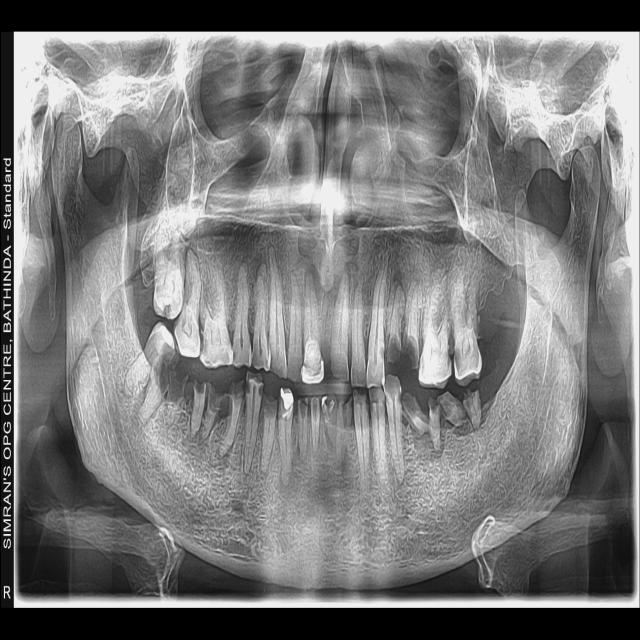Caries: (154, 343, 177, 393), (258, 385, 264, 397), (246, 381, 250, 394)
Filling: (302, 361, 324, 384), (280, 387, 294, 410)
Mandibular Canal: (89, 307, 250, 530), (395, 331, 571, 534)
Periapical lesion: (305, 264, 323, 301), (136, 394, 151, 429), (243, 444, 254, 476), (279, 466, 293, 489), (217, 443, 233, 461), (184, 246, 200, 264), (255, 262, 267, 282), (239, 257, 250, 278), (267, 246, 277, 269), (393, 276, 404, 290), (123, 380, 131, 399), (396, 475, 405, 487)
Root Piece: (219, 381, 244, 457), (158, 370, 188, 427), (405, 281, 422, 368), (386, 285, 405, 362), (261, 394, 278, 473), (401, 392, 429, 436), (336, 397, 353, 466), (202, 383, 222, 439), (438, 392, 466, 427), (191, 382, 206, 437), (462, 390, 481, 429), (428, 398, 441, 450), (298, 398, 309, 457), (310, 396, 320, 452)
